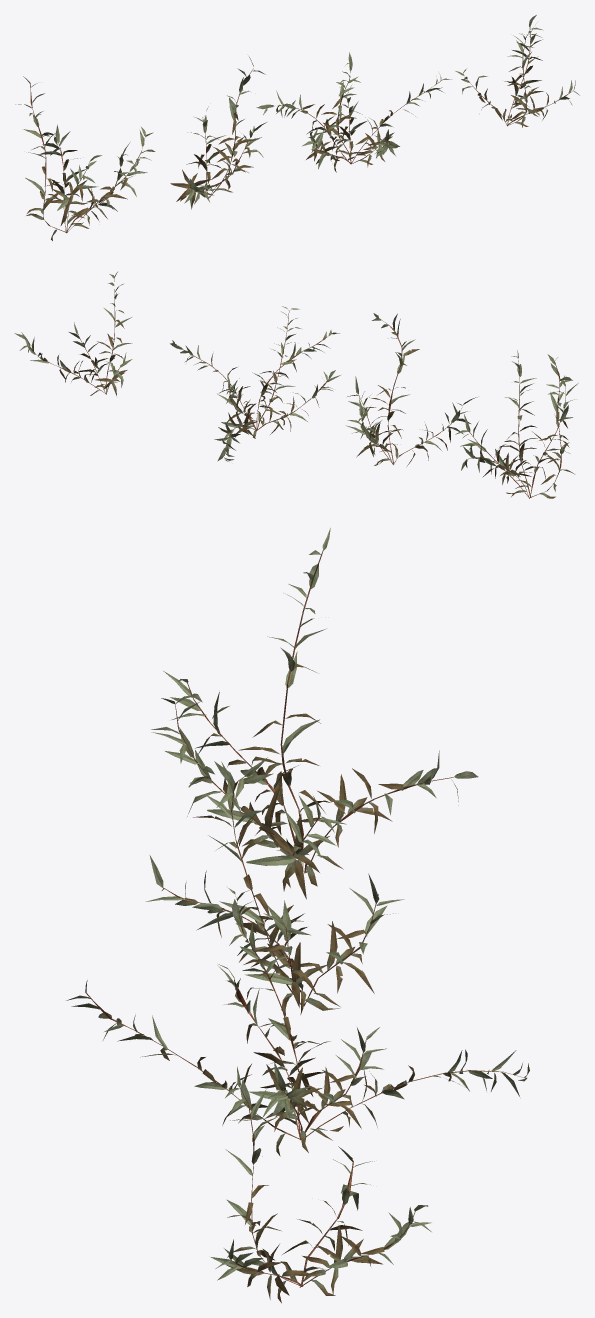
The model's file is shrub_b.glb.
3 renders of one model, top to bottom at view 1: azimuth 30°, elevation 25°; view 2: azimuth 150°, elevation 25°; view 3: azimuth 270°, elevation 25°, orthographic. The views are drawn at different scales.
Visible parts, largest first — view 1: shrub_02_a; view 2: shrub_02_a; view 3: shrub_02_a.
Part boxes in pixels (x1,y1,x2,y2): shrub_02_a: [15, 15, 579, 240]; shrub_02_a: [14, 272, 578, 498]; shrub_02_a: [66, 528, 529, 1303].
Size of the model in its own units: 6.03 by 1.69 by 2.28.
Materials: 1 (1 with a texture image).
